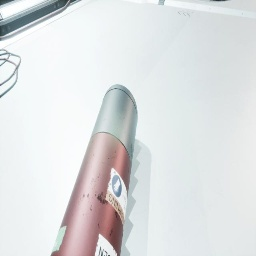NitrogenTank ,: (50, 84, 138, 256)
